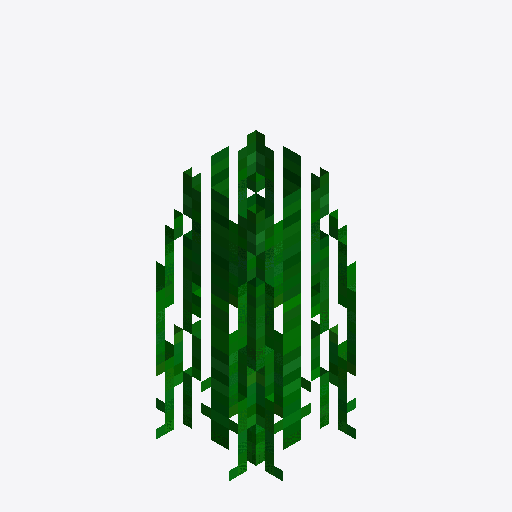
A Minecraft block model of 4 cuboids, rendered isometrically (azimuth 45°, elevation 35.3°) with the resource pack's own textures.
Parts seen in each view (by area): element 1, element 4, element 2, element 3.
Boxes of the visible parts, box(x1,y1,x2,y2) form: element 1: box(156, 172, 282, 480); element 4: box(229, 172, 355, 480); element 2: box(229, 130, 355, 438); element 3: box(156, 130, 282, 438).
Size of the model in its own units: 16 by 32 by 16.